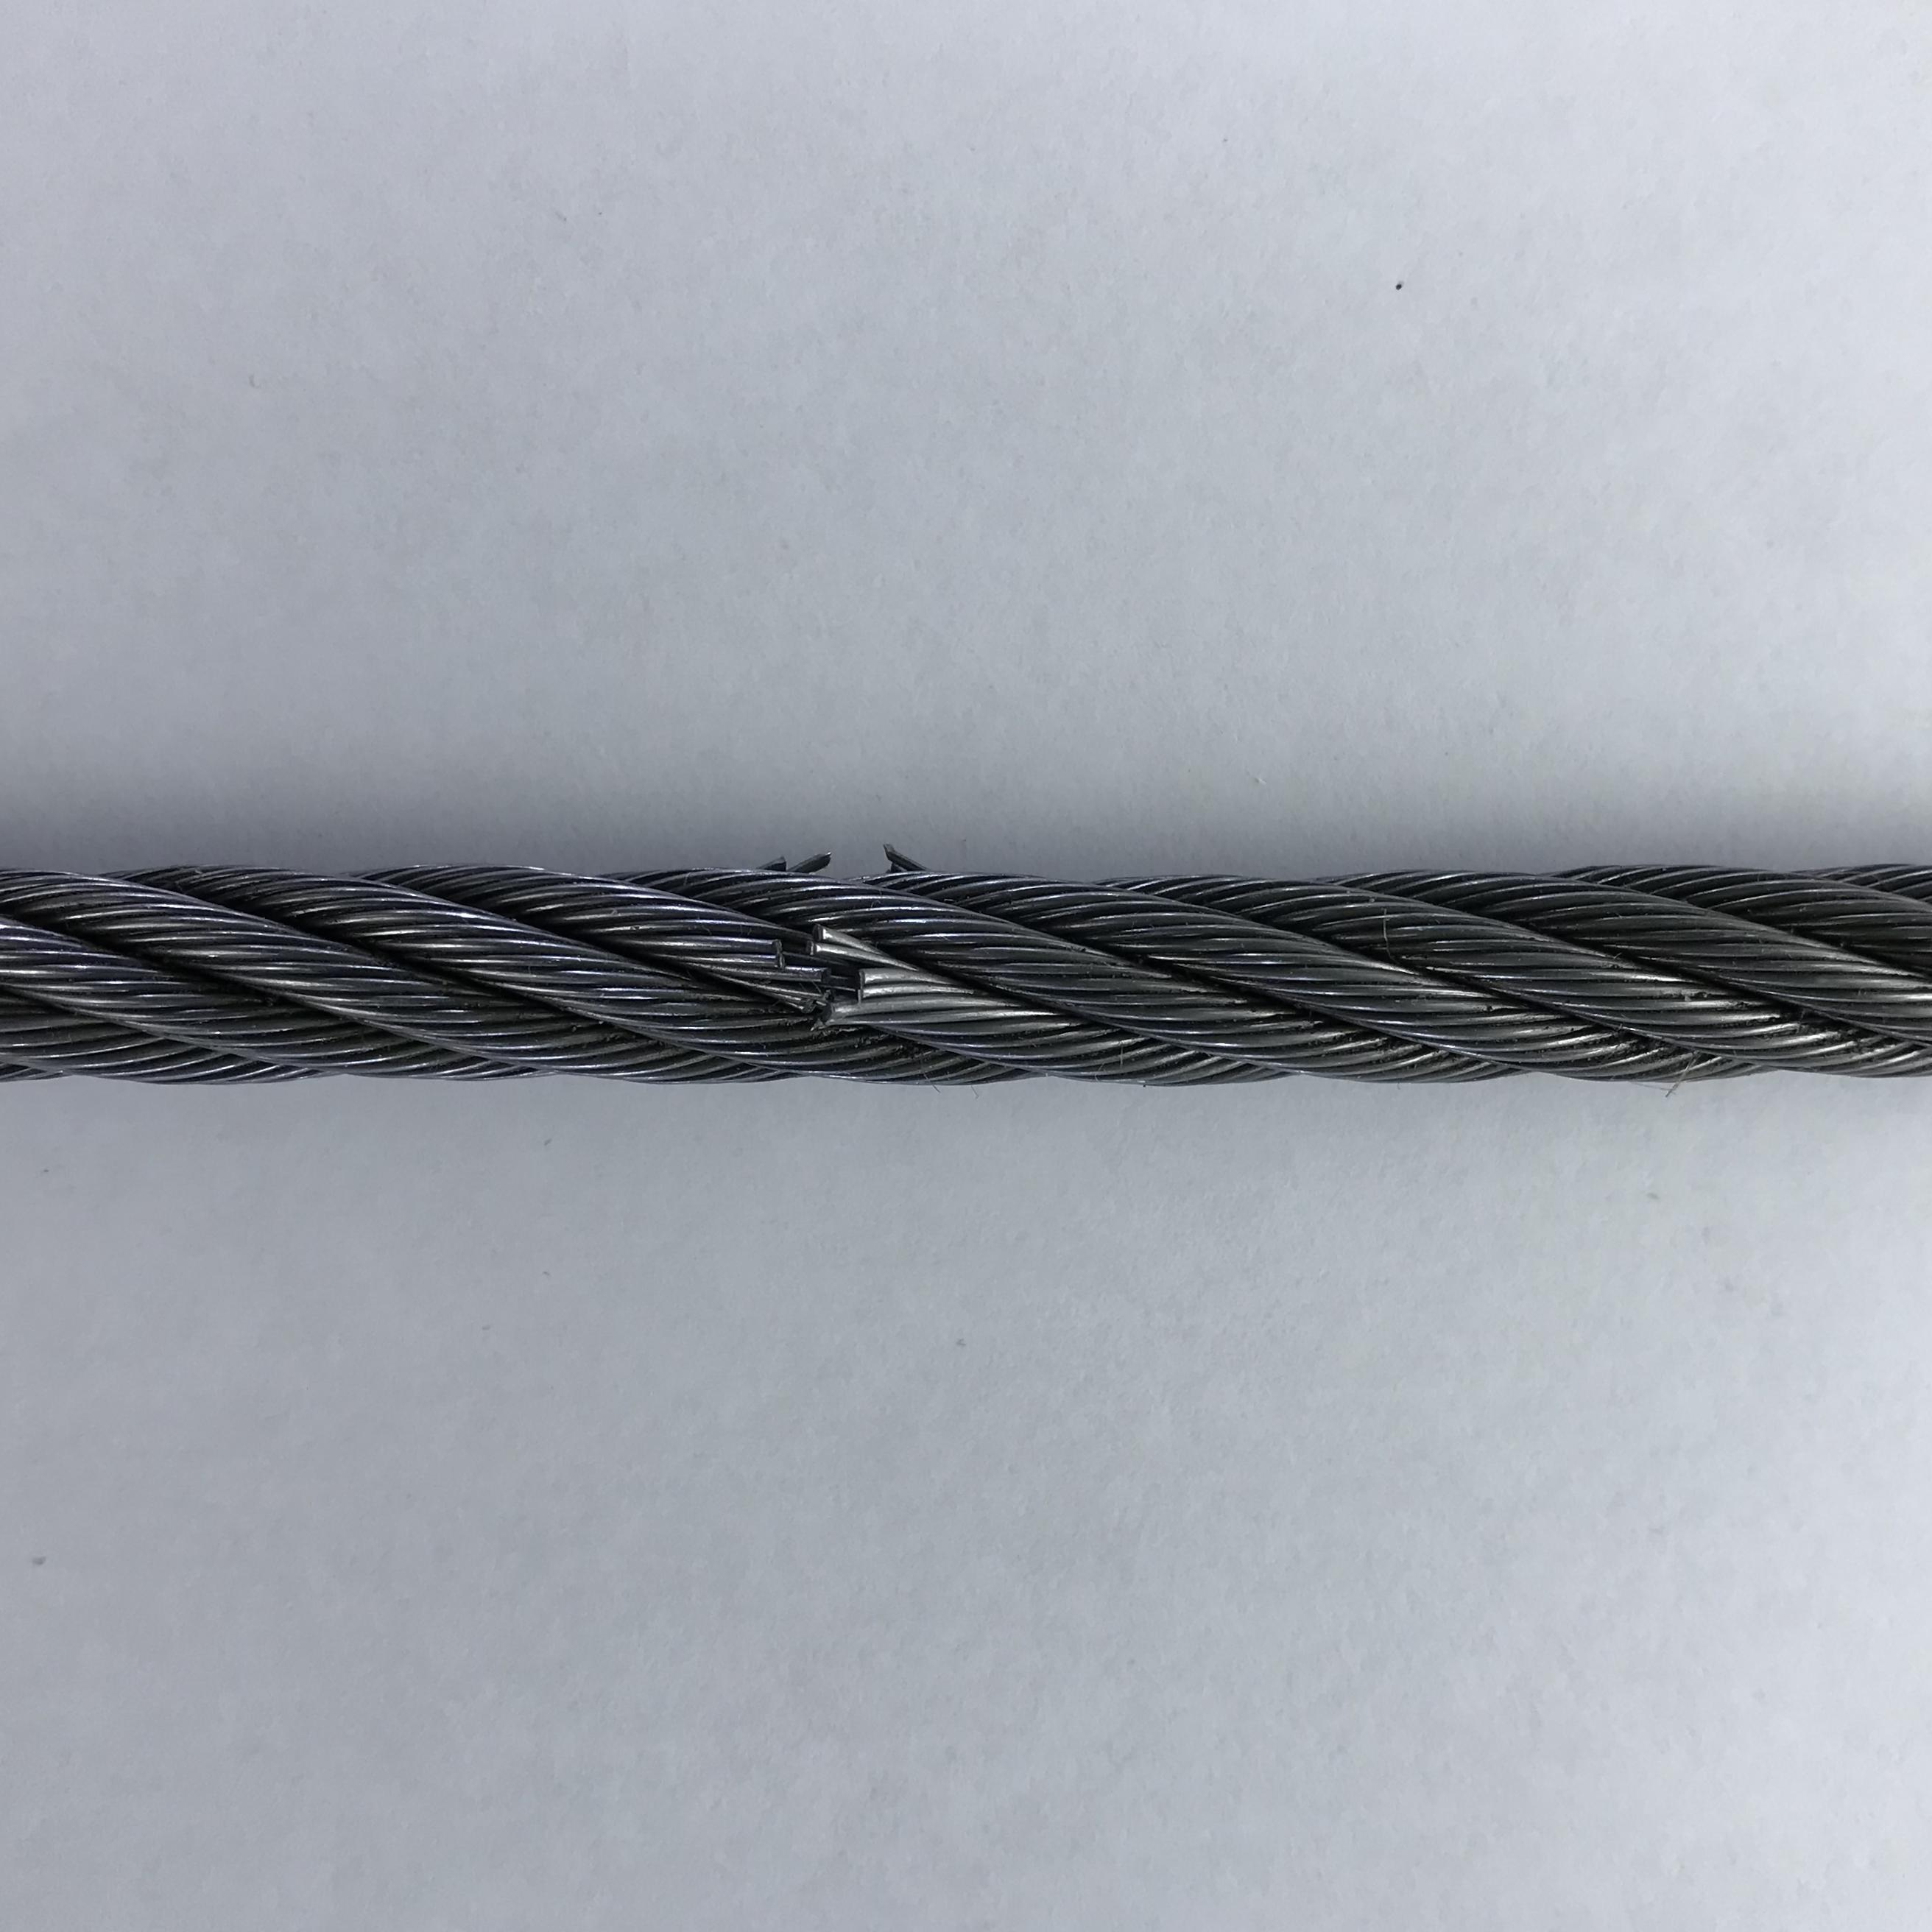break: (754, 927, 878, 1031), (755, 832, 922, 886)
